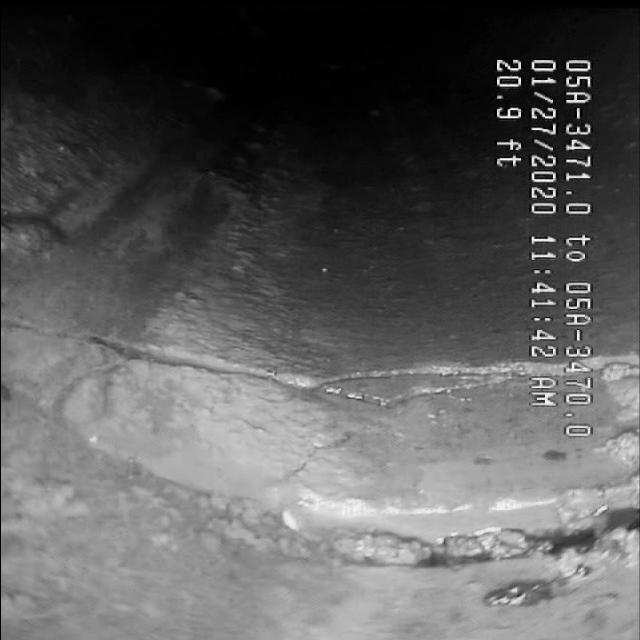Crack: (31, 326, 444, 418)
